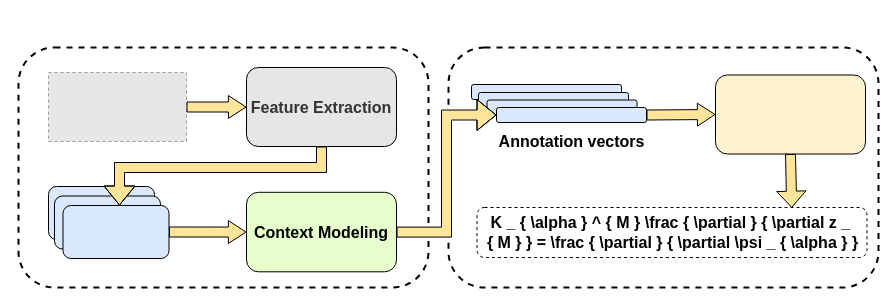
Some shapes in this 896 by 305 pixel diagram are drawn without their labels. Grey dashed boxes stand in for pictures. The centre of each missing label's shape, as x and y in pixels:
"Feature maps" goes at (115,231).
"Prediction" goes at (790,114).
